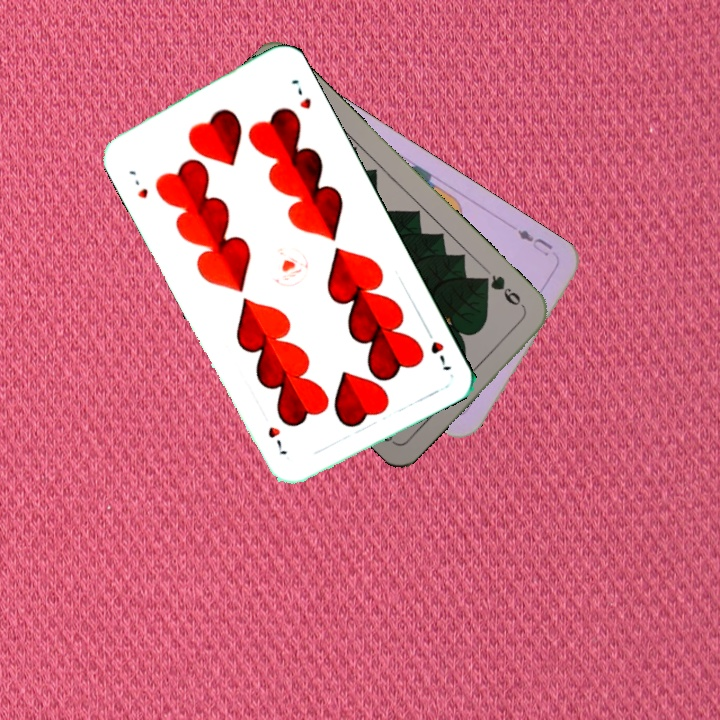EU: (513, 225, 555, 259)
G9: (476, 270, 528, 312)
H7: (420, 322, 454, 373), (124, 166, 151, 202)
